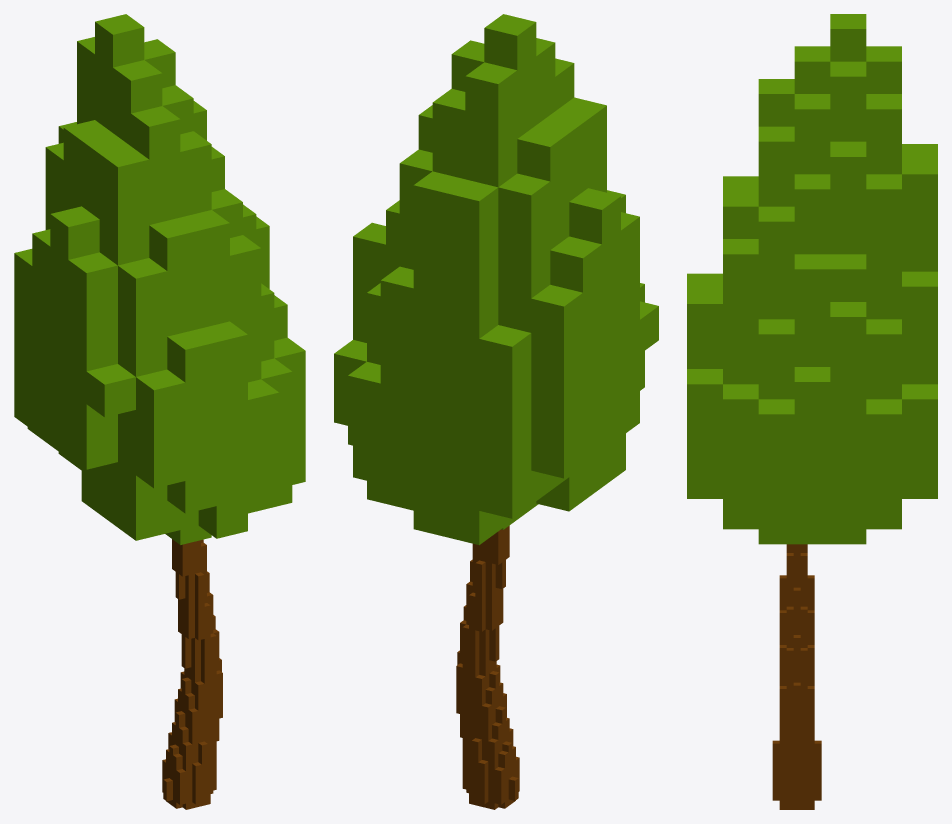
File: Voxeltree_01_green.glb
3 renders of one model, left to right at view 1: azimuth 30°, elevation 25°; view 2: azimuth 150°, elevation 25°; view 3: azimuth 270°, elevation 25°, orthographic. The views are drawn at different scales.
Parts seen in each view (by area): view 1: Voxeltree_01_green_Wood_0; view 2: Voxeltree_01_green_Wood_0; view 3: Voxeltree_01_green_Wood_0.
Part boxes in pixels (x1=…): Voxeltree_01_green_Wood_0: x1=14, y1=14, x2=305, y2=809; Voxeltree_01_green_Wood_0: x1=334, y1=14, x2=658, y2=809; Voxeltree_01_green_Wood_0: x1=687, y1=14, x2=937, y2=809.
Bounding box in the file's own units: 3.07 × 10.29 × 3.07.
